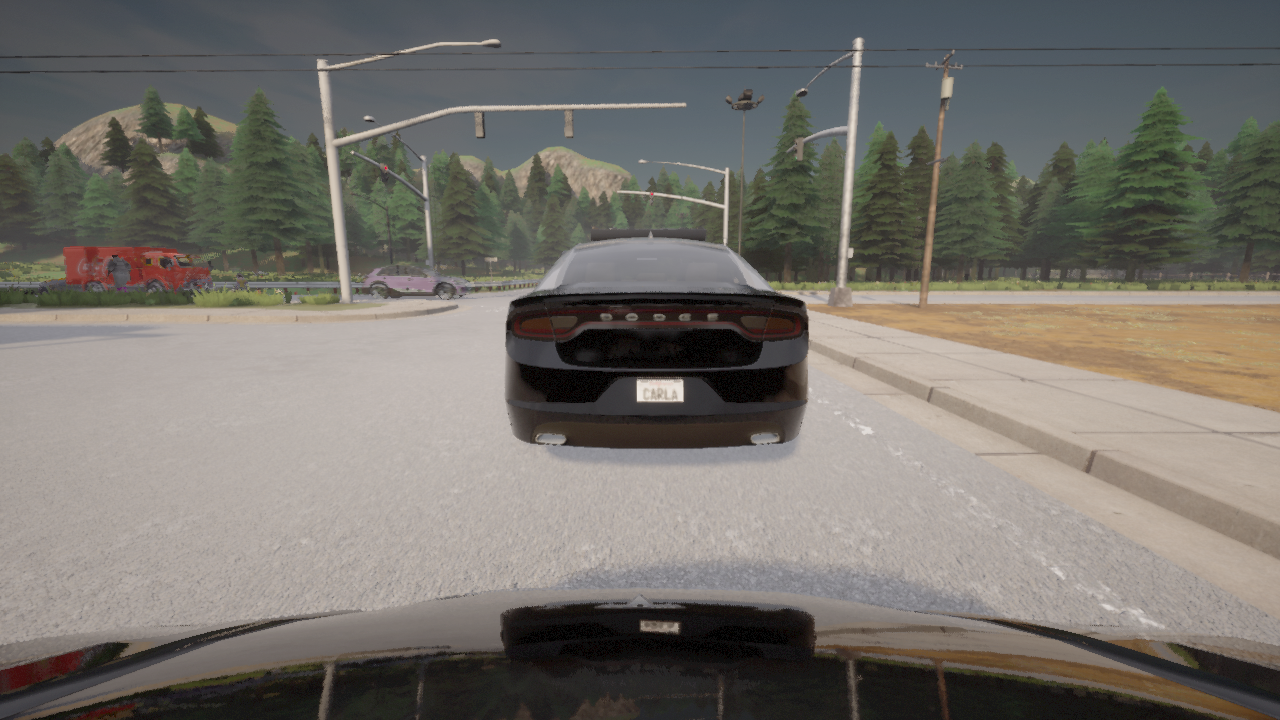cyclist: (0, 588, 1279, 719), (505, 227, 808, 448), (64, 246, 216, 296), (361, 265, 472, 300), (39, 278, 67, 292)
pedestrian: (106, 254, 132, 294), (236, 274, 246, 291)
